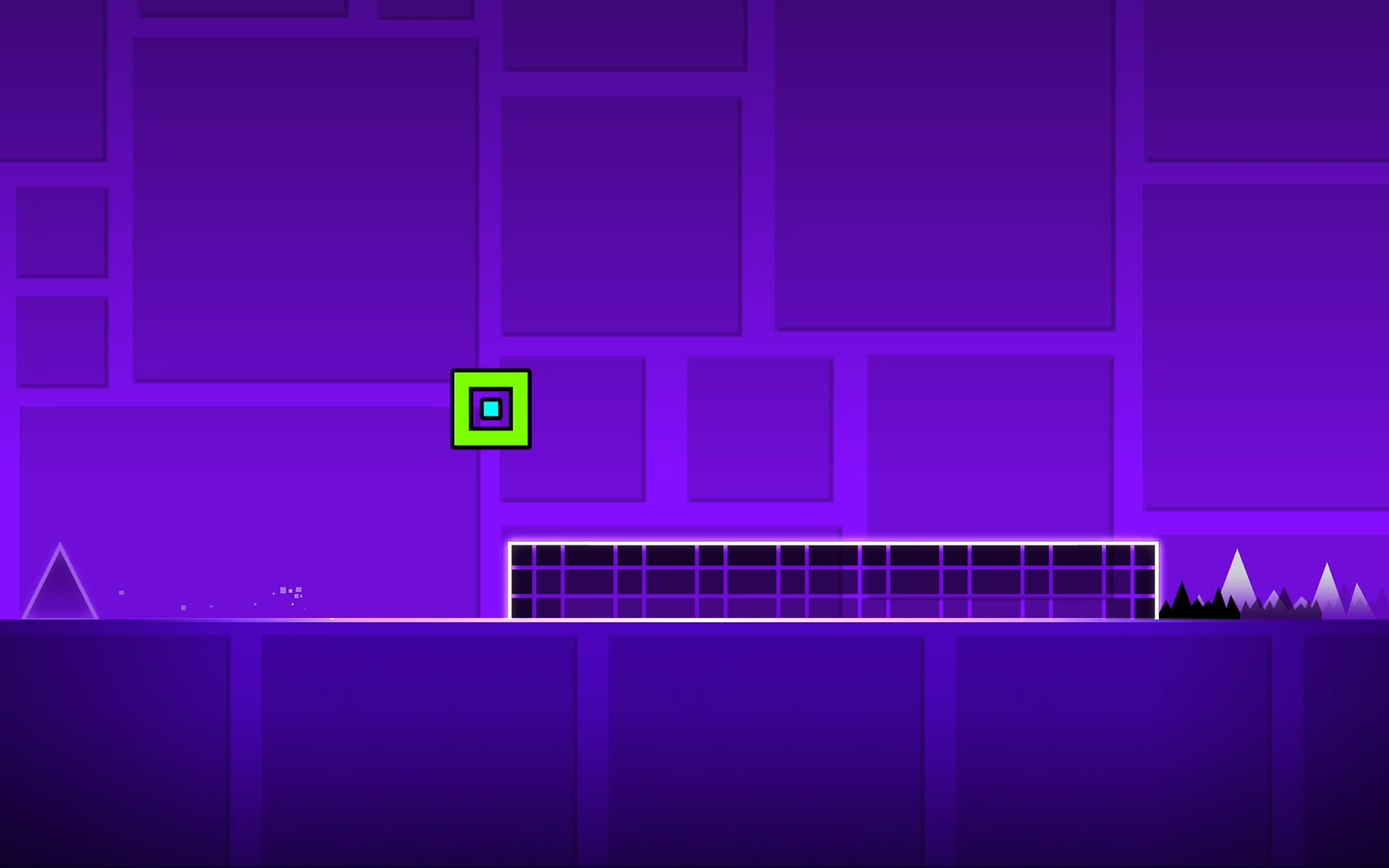Block2: (505, 538, 1164, 627)
Player: (450, 370, 531, 449)
Spike3: (1165, 583, 1383, 620)
